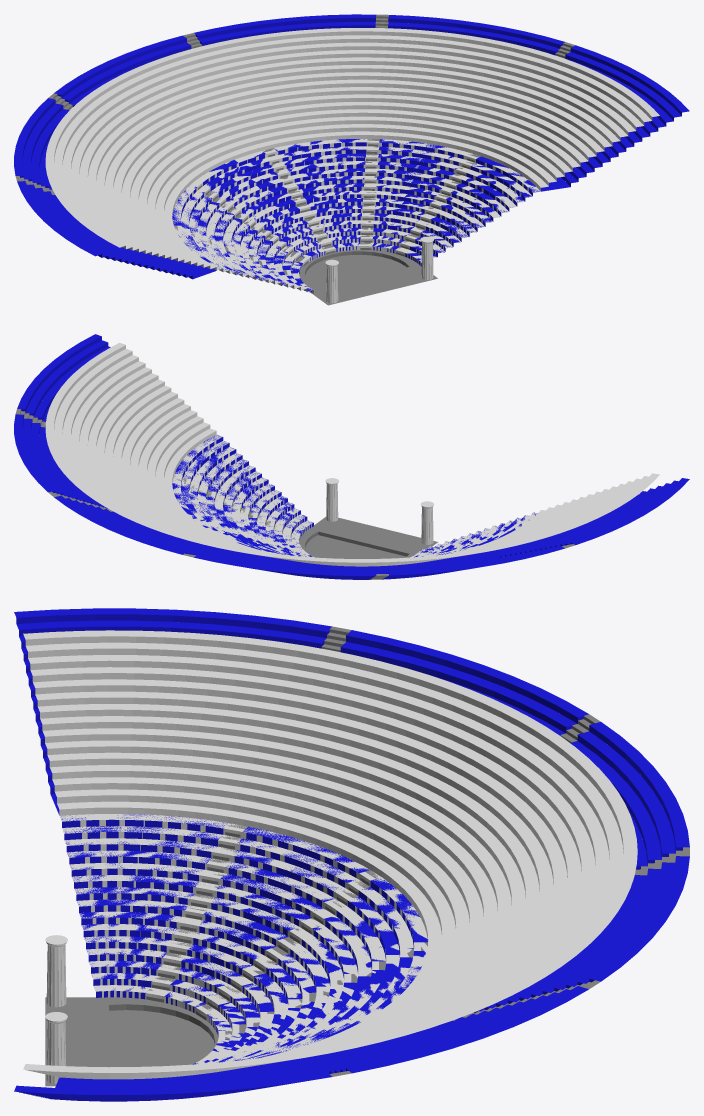
File: theater.fbx
3 views of the same model, one above another, from view 1: azimuth 30°, elevation 25°; view 2: azimuth 150°, elevation 25°; view 3: azimuth 270°, elevation 25° (orthographic). The views are drawn at different scales.
Visible parts, largest first — view 1: Theater, Theater.001, Circle, Theater.002, Circle.002; view 2: Theater, Theater.001, Circle, Circle.002, Theater.002; view 3: Theater, Theater.001, Circle, Theater.002, Circle.002.
Part boxes in pixels (left/top/right/bottom): Theater: left=45, top=28, right=659, bottom=293; Theater.001: left=14, top=14, right=689, bottom=292; Circle: left=299, top=250, right=437, bottom=305; Theater.002: left=15, top=14, right=575, bottom=275; Circle.002: left=325, top=236, right=434, bottom=303; Theater: left=45, top=342, right=659, bottom=566; Theater.001: left=14, top=334, right=689, bottom=579; Circle: left=299, top=517, right=437, bottom=558; Circle.002: left=325, top=478, right=434, bottom=544; Theater.002: left=15, top=409, right=574, bottom=579; Theater: left=23, top=630, right=637, bottom=1079; Theater.001: left=14, top=608, right=689, bottom=1101; Circle: left=45, top=997, right=218, bottom=1086; Theater.002: left=146, top=626, right=689, bottom=1076; Circle.002: left=45, top=935, right=67, bottom=1083.
Size of the model in its own units: 6596 by 1253 by 3872.
